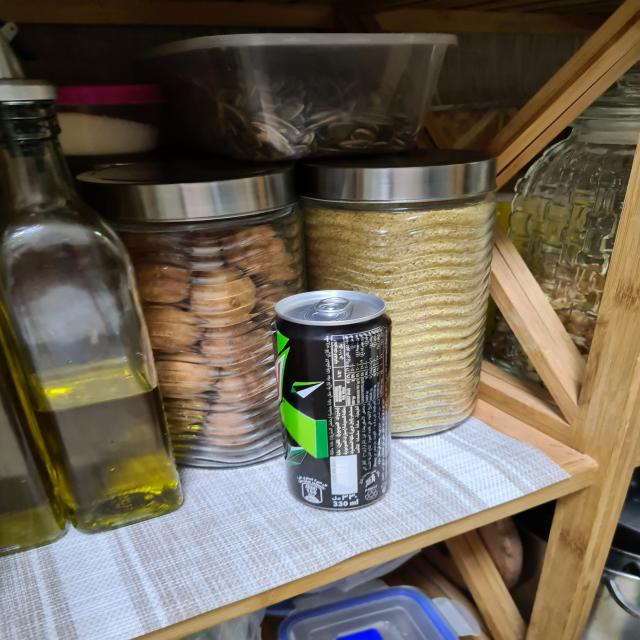non-organic waste: (271, 283, 401, 511)
